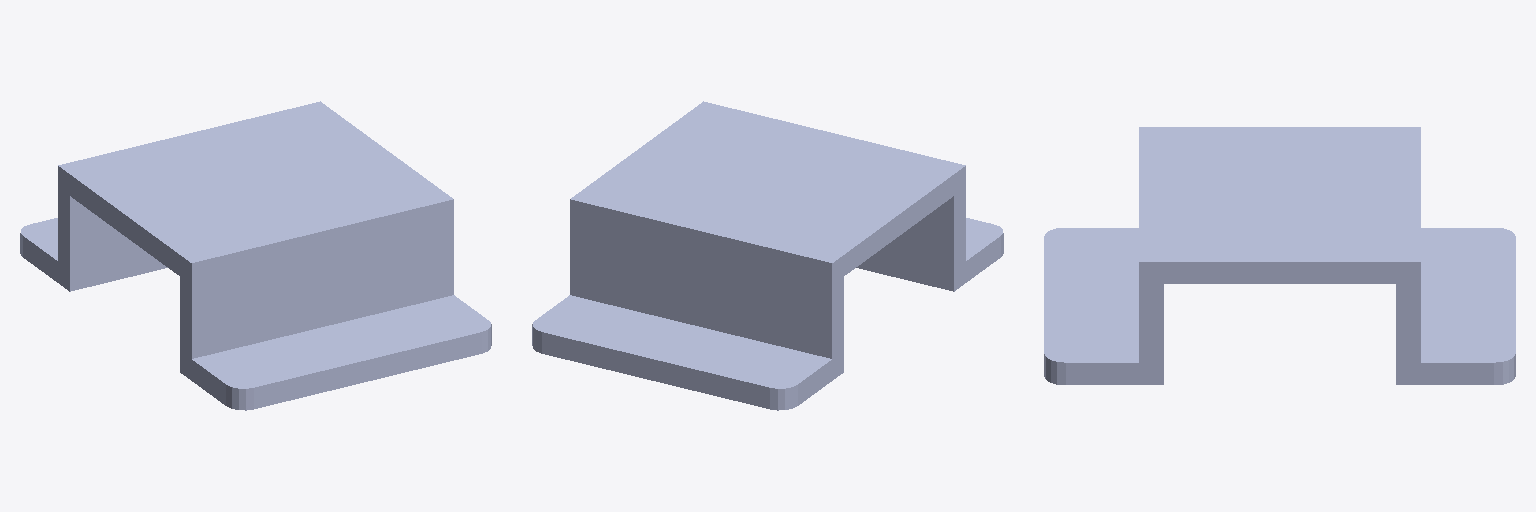
robot.urdf — Estationv3:
<?xml version="1.0" encoding="utf-8"?>
<!-- This URDF was automatically created by SolidWorks to URDF Exporter! Originally created by Stephen Brawner (brawner@gmail.com) 
     Commit Version: 1.6.0-4-g7f85cfe  Build Version: 1.6.7995.38578
     For more information, please see http://wiki.ros.org/sw_urdf_exporter -->
<robot
  name="Estationv3">
  <link
    name="base_link">
    <inertial>
      <origin
        xyz="-1.38777878078145E-17 -1.38777878078145E-17 -0.0154228789790658"
        rpy="0 0 0" />
      <mass
        value="0.0751112388980386" />
      <inertia
        ixx="8.62310974221202E-05"
        ixy="1.11669382694659E-20"
        ixz="1.65838850775483E-21"
        iyy="4.67172542082859E-05"
        iyz="-2.54772505615304E-21"
        izz="0.000111594332019988" />
    </inertial>
    <visual>
      <origin
        xyz="0 0 0"
        rpy="0 0 0" />
      <geometry>
        <mesh
          filename="package://Estationv3/meshes/base_link.STL" />
      </geometry>
      <material
        name="">
        <color
          rgba="0.792156862745098 0.819607843137255 0.933333333333333 1" />
      </material>
    </visual>
    <collision>
      <origin
        xyz="0 0 0"
        rpy="0 0 0" />
      <geometry>
        <mesh
          filename="package://Estationv3/meshes/base_link.STL" />
      </geometry>
    </collision>
  </link>
</robot>

--- Render facts (derived) ---
Views: 3 orthographic renders of the robot side by side, from view 1: azimuth 30°, elevation 25°; view 2: azimuth 150°, elevation 25°; view 3: azimuth 270°, elevation 25°.
Model Estationv3 with 1 links and 0 joints (none), rooted at base_link, posed every joint at zero.
Visible links, largest first — view 1: base_link; view 2: base_link; view 3: base_link.
Link boxes in pixels (box(x1,y1,x2,y2)): base_link: box(20, 101, 491, 410); base_link: box(532, 101, 1003, 410); base_link: box(1044, 127, 1515, 384).
Size in the robot's own frame: 0.076 by 0.112 by 0.0325 metres.
Meshes: 1 distinct files referenced, 1 mesh visuals loaded (1 binary STL).
